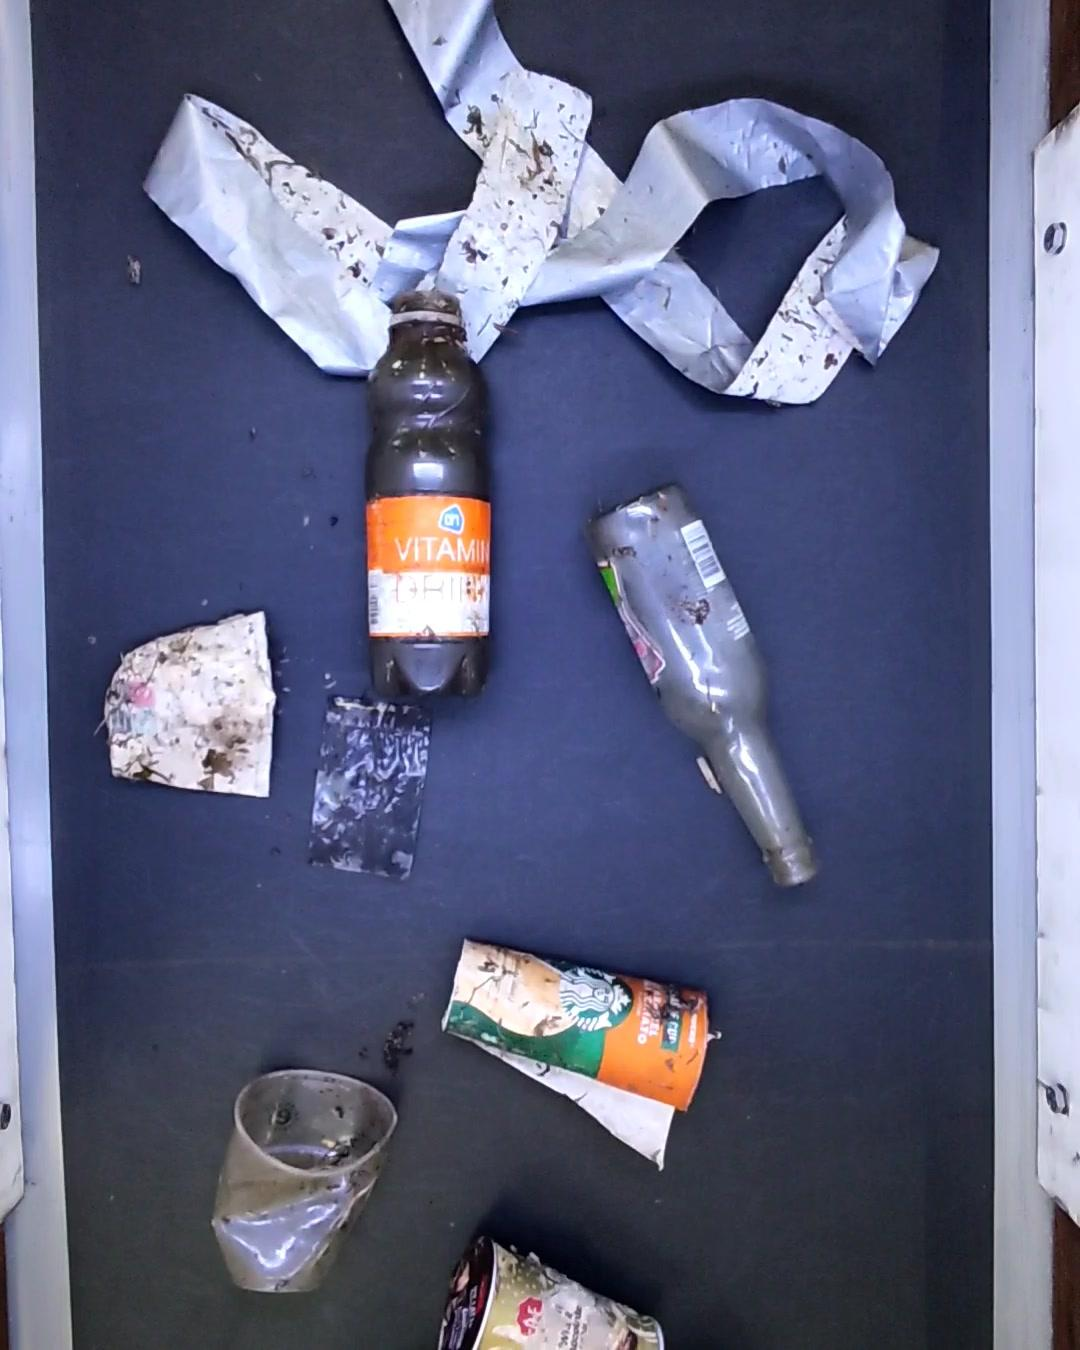Drankflessen - 1-2 liter: (367, 285, 494, 703)
Plastic folies of stukken daarvan 2.5- 50 cm: (304, 688, 434, 883)
